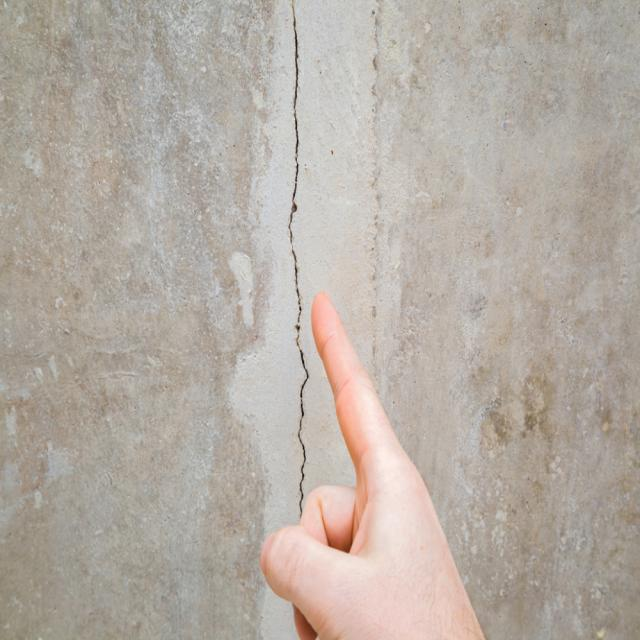Crack: (284, 0, 309, 518)
